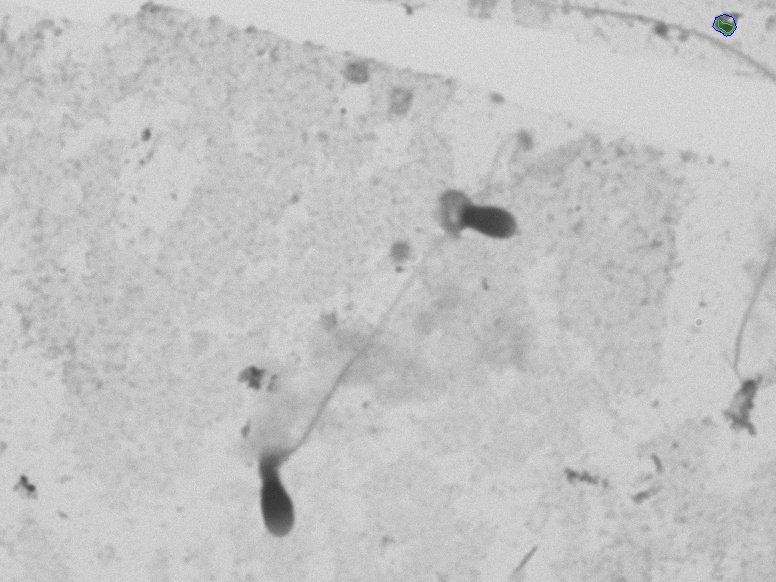Abnormal: (191, 235, 429, 564), (412, 134, 536, 292)
